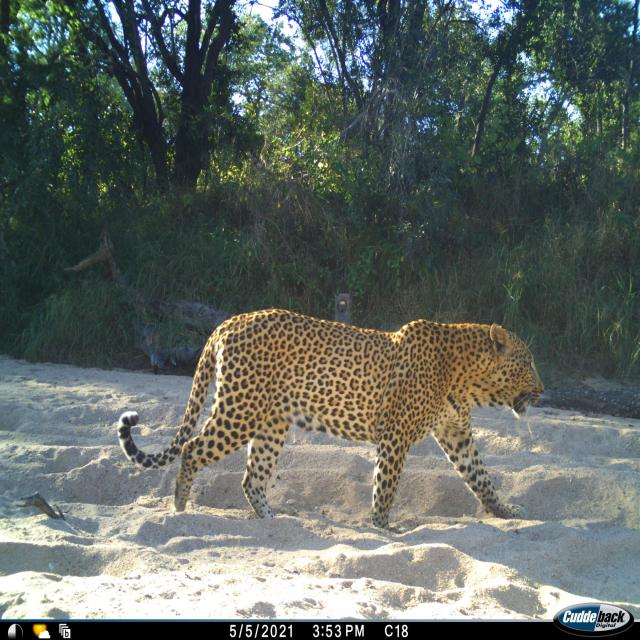Leopard: (108, 311, 551, 546)
